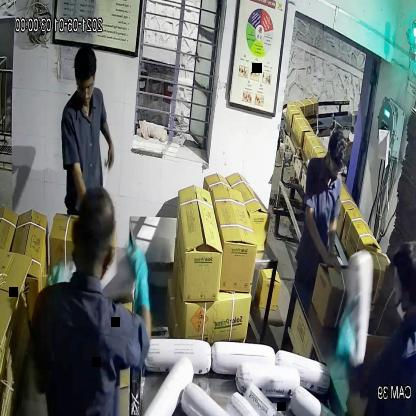goggles: (325, 154, 346, 180)
